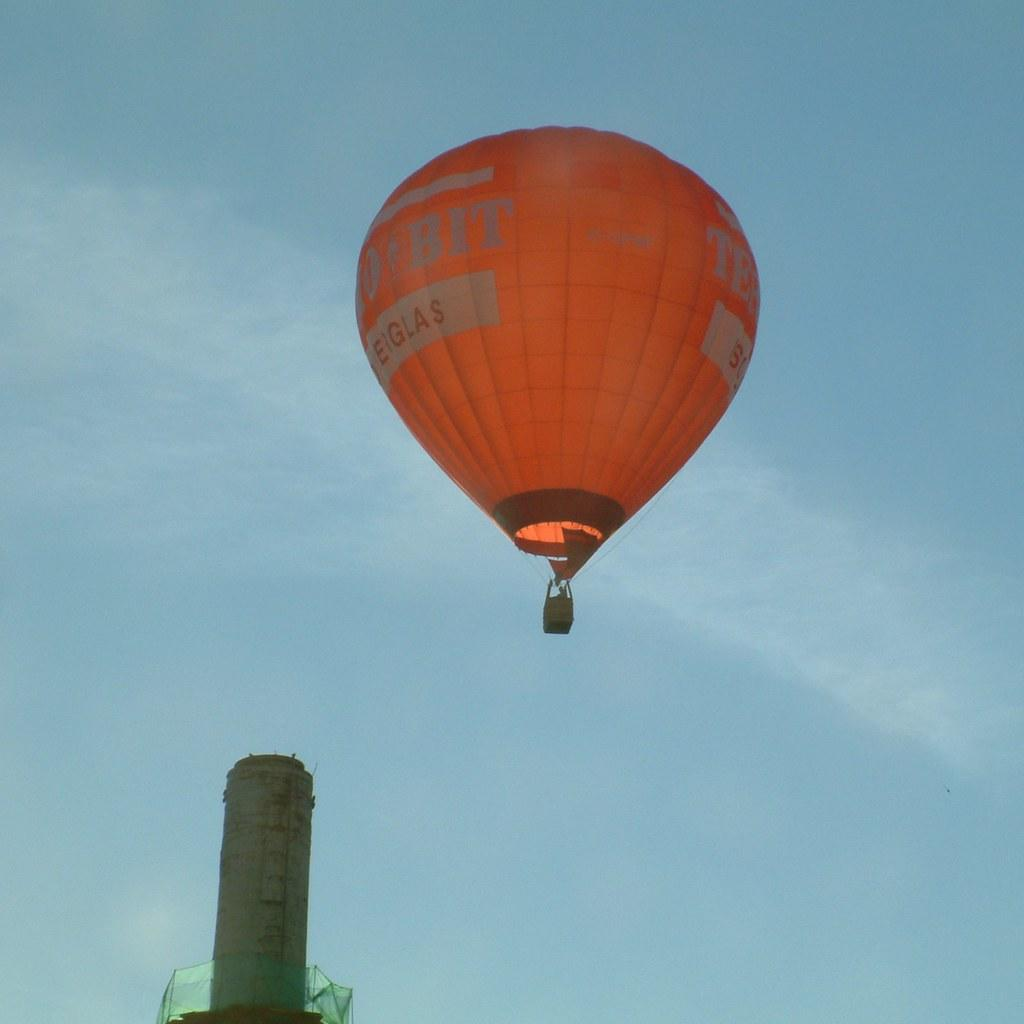balloon: (354, 124, 762, 636)
